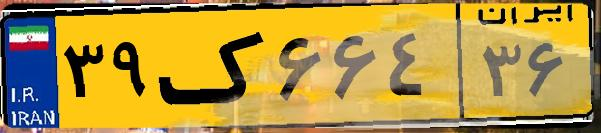3: (57, 26, 110, 100), (475, 38, 525, 113)
4: (385, 28, 445, 110)
6: (270, 28, 330, 110), (330, 28, 385, 110), (525, 38, 570, 115)
9: (110, 28, 158, 98)
ک: (158, 12, 270, 120)
